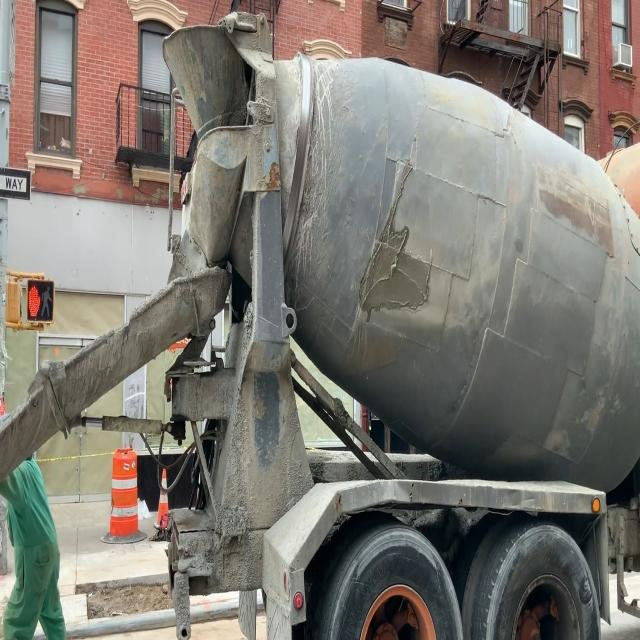machinery: (140, 10, 640, 640)
